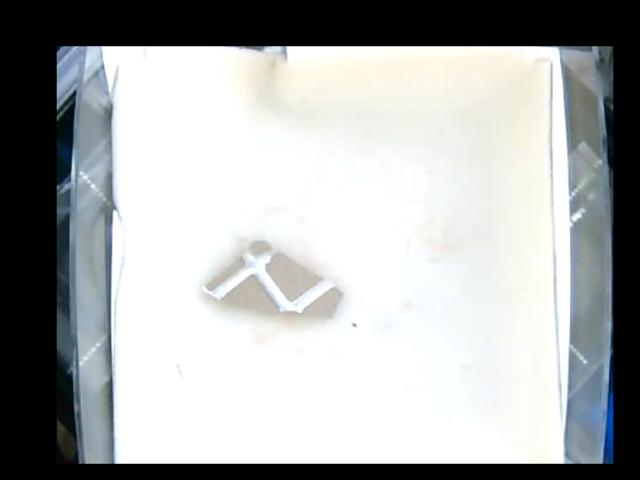China: (201, 238, 339, 317)
